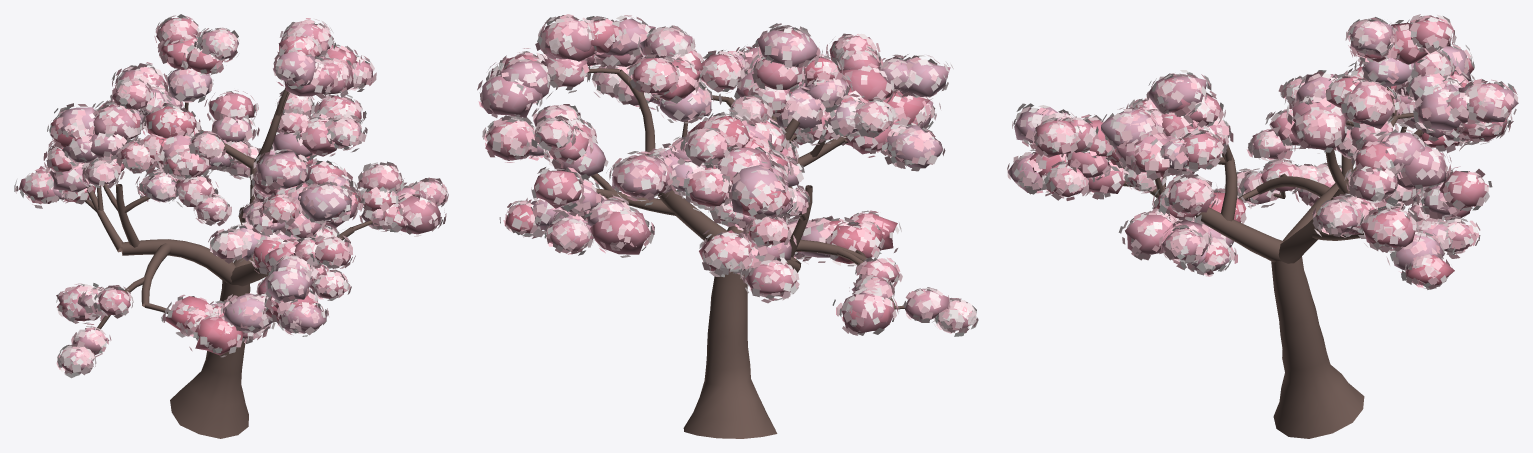
File: cherryc.glb
The picture shows the model from 3 angles, left to right: view 1: azimuth 30°, elevation 25°; view 2: azimuth 150°, elevation 25°; view 3: azimuth 270°, elevation 25°; orthographic projection. The views are drawn at different scales.
Parts seen in each view (by area): view 1: CherryC_flowers, CherryC_blossom, CherryC_bark; view 2: CherryC_flowers, CherryC_blossom, CherryC_bark; view 3: CherryC_flowers, CherryC_blossom, CherryC_bark.
Part boxes in pixels (<box>): CherryC_flowers: <box>14,14,448,378</box>; CherryC_blossom: <box>18,18,446,373</box>; CherryC_bark: <box>85,87,372,438</box>; CherryC_flowers: <box>477,14,978,336</box>; CherryC_blossom: <box>481,16,970,333</box>; CherryC_bark: <box>587,54,905,438</box>; CherryC_flowers: <box>1007,14,1517,289</box>; CherryC_blossom: <box>1007,20,1518,285</box>; CherryC_bark: <box>1123,86,1424,438</box>.
Bounding box in the file's own units: 6.53 × 6.27 × 6.9.
